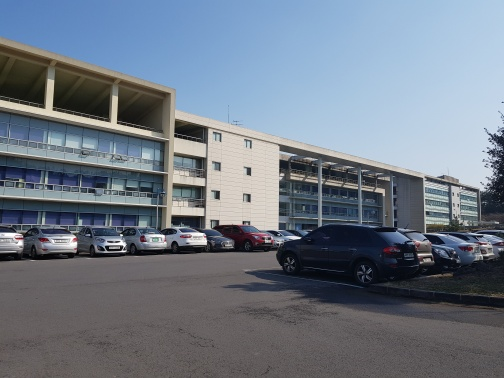Engineering College Building 4: (4, 45, 169, 225), (178, 122, 386, 221)
